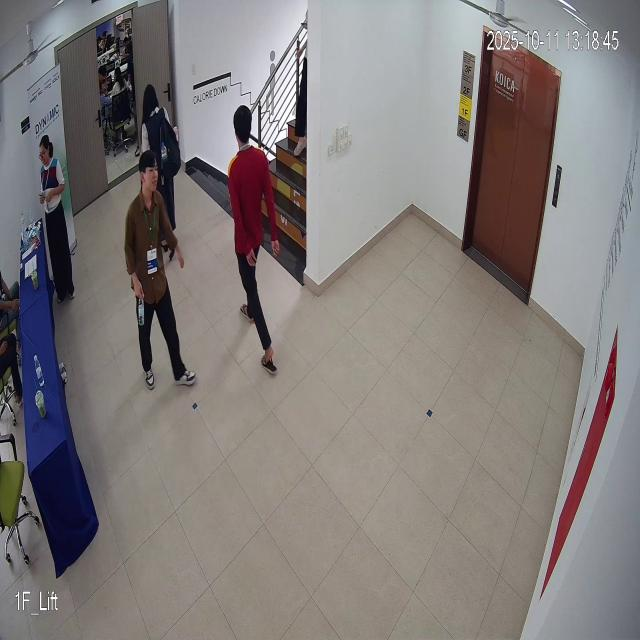face: (132, 147, 169, 203)
